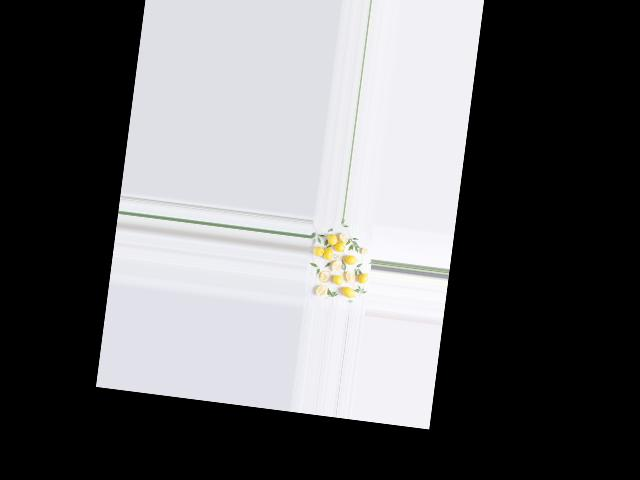lemon: (312, 244, 325, 260)
